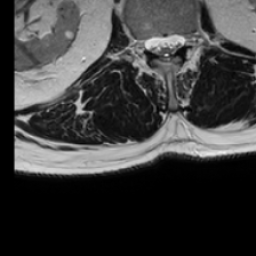CCS_normal: (157, 21, 171, 70)
LFS_normal: (184, 21, 195, 58)
LLS_normal: (171, 20, 184, 62)
RFS_normal: (135, 26, 146, 60)
RLS_normal: (145, 23, 157, 63)
